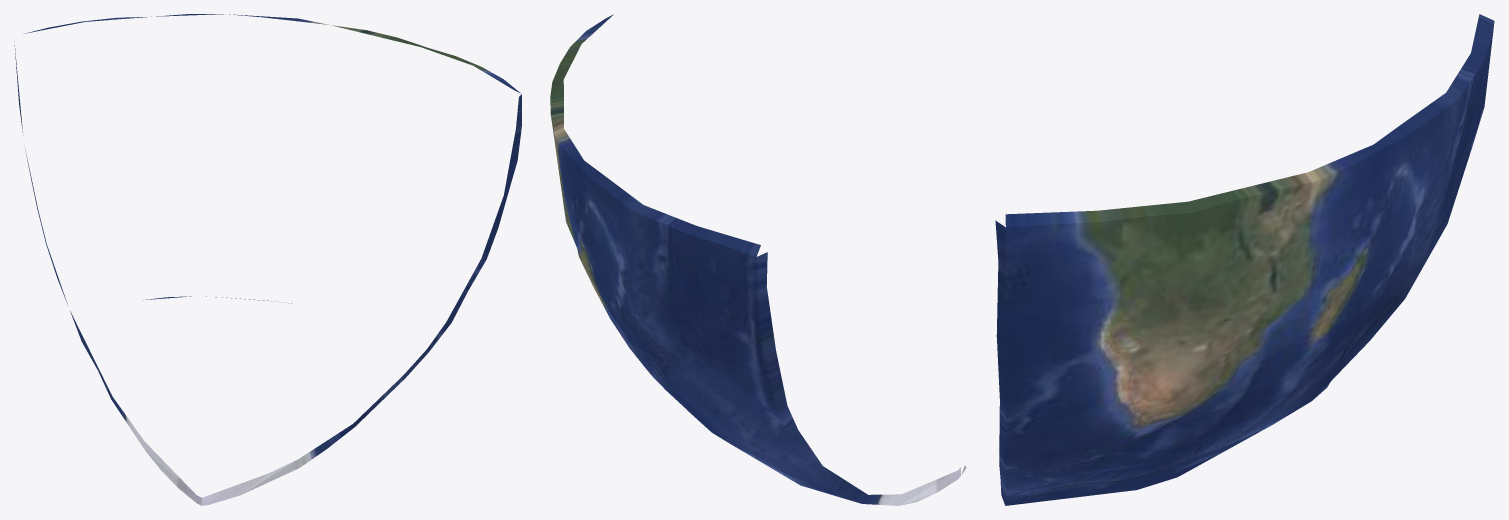
The picture shows the model from 3 angles, left to right: view 1: azimuth 30°, elevation 25°; view 2: azimuth 150°, elevation 25°; view 3: azimuth 270°, elevation 25°; orthographic projection. The views are drawn at different scales.
Size of the model in its own units: 6489362 by 6446303 by 6527802.
1 material, 1 textured.
